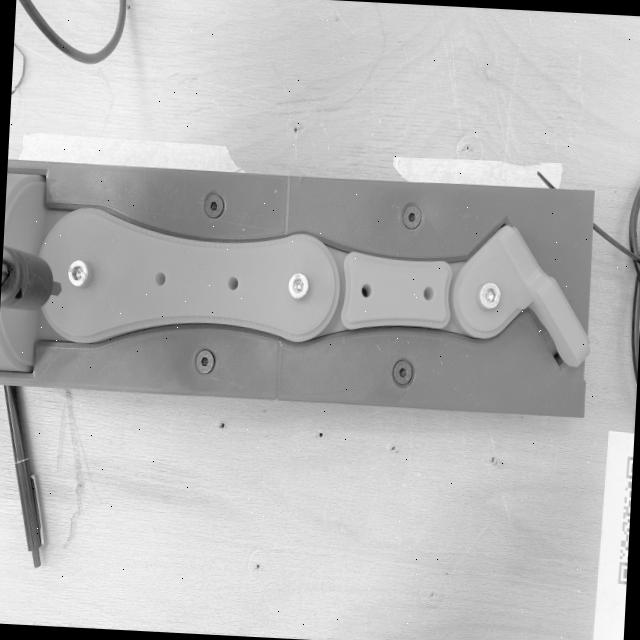Hex Socket Allen: (68, 259, 88, 288), (288, 272, 308, 300), (480, 282, 500, 310), (392, 360, 413, 385), (402, 204, 422, 230), (204, 194, 224, 218), (196, 350, 214, 374)
